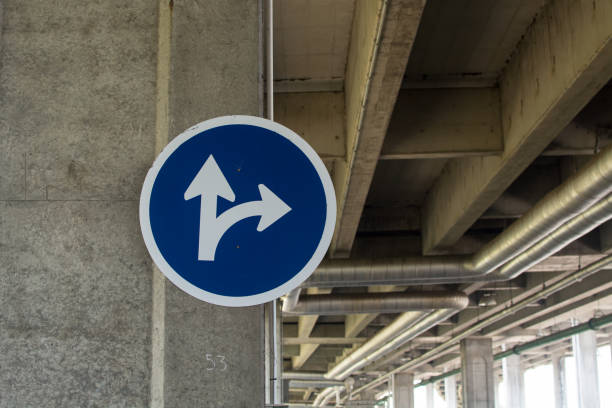ileri_veya_saga: (141, 112, 339, 307)
